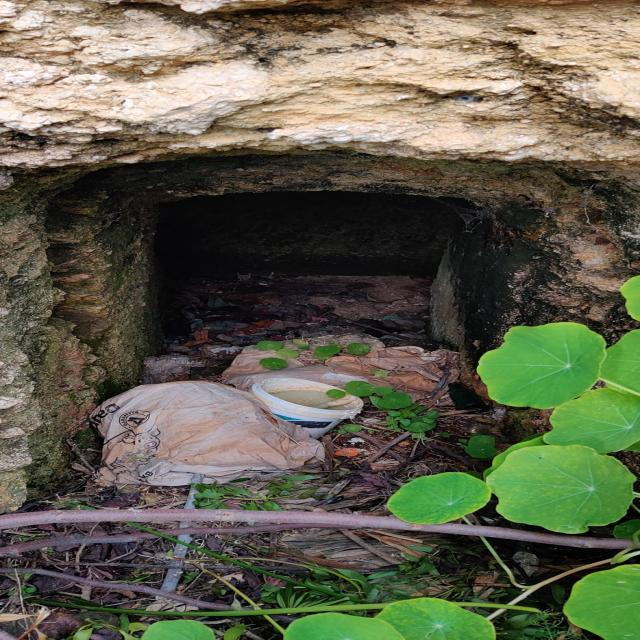Bottle: (448, 382, 492, 415)
Other litter: (86, 379, 330, 486), (218, 331, 458, 405)
Other plastic: (255, 378, 364, 439), (159, 472, 208, 589)
